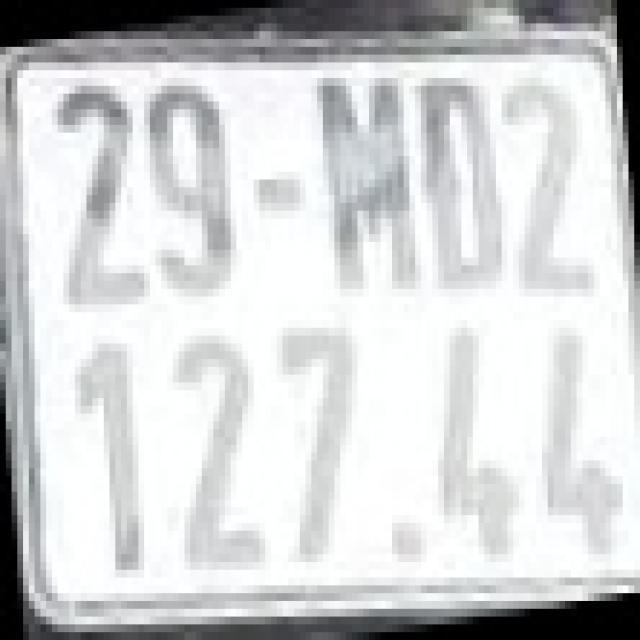1: (69, 336, 150, 578)
2: (167, 328, 265, 570), (52, 78, 150, 312), (502, 78, 600, 304)
4: (536, 320, 634, 554), (432, 320, 519, 562)
7: (276, 320, 358, 562)
9: (150, 78, 236, 297)
D: (420, 66, 508, 316)
H: (317, 70, 415, 296)
